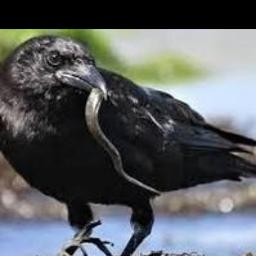Crow: (0, 35, 256, 256)
